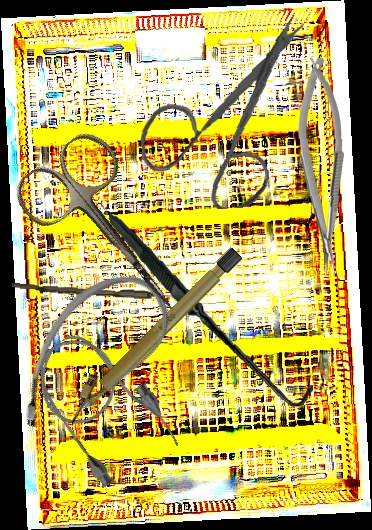Cannula: (1, 251, 186, 463), (18, 315, 187, 496)
Hook Surgical: (109, 199, 314, 420)
Iris Scissors: (7, 123, 214, 346), (133, 14, 317, 215)
Needle Holder: (297, 57, 346, 278)
Scalpel Handle: (74, 245, 244, 415)
Surgical Spoon: (11, 283, 200, 302)
